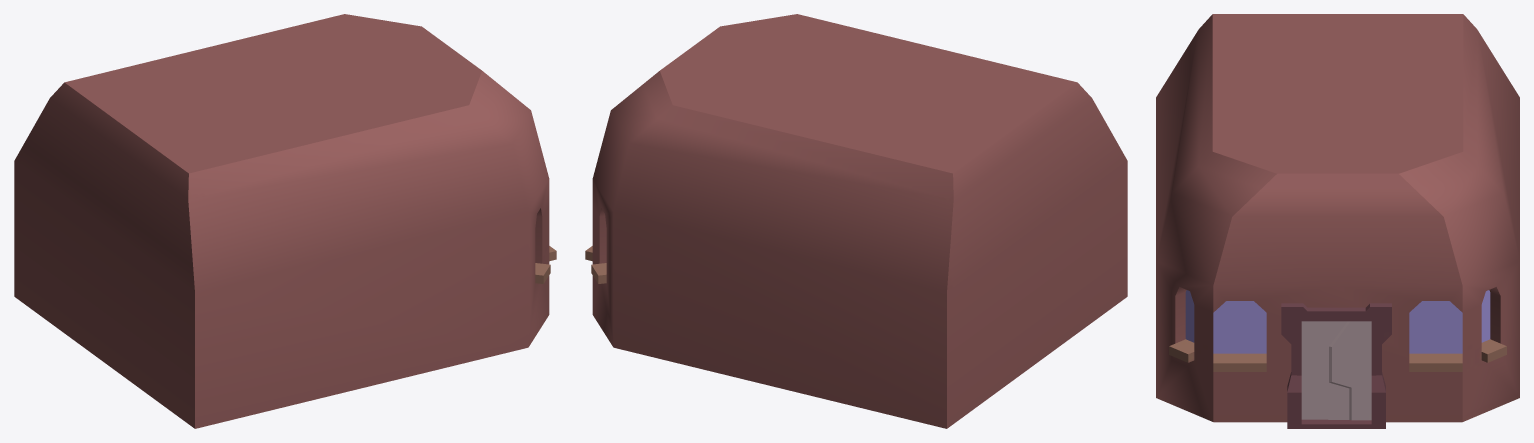
The model's file is West_House_01.fbx.
The picture shows the model from 3 angles, left to right: view 1: azimuth 30°, elevation 25°; view 2: azimuth 150°, elevation 25°; view 3: azimuth 270°, elevation 25°; orthographic projection.
Parts seen in each view (by area): view 1: West_House_01; view 2: West_House_01; view 3: West_House_01.
Boxes of the visible parts, x1,y1,x2,y2 form: West_House_01: (14, 14, 556, 428); West_House_01: (585, 14, 1127, 428); West_House_01: (1156, 14, 1519, 428).
Bounding box in the file's own units: 21.59 × 11.99 × 17.08.
Materials: 1 (1 with a texture image).
